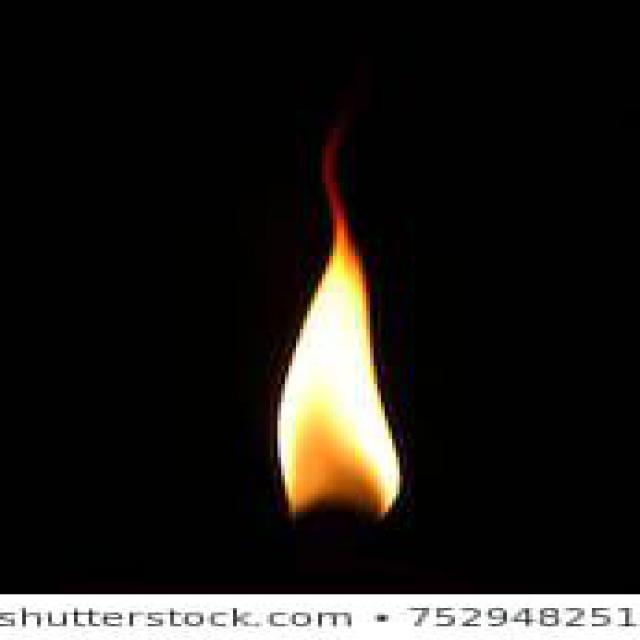Fire: (276, 129, 402, 532)
